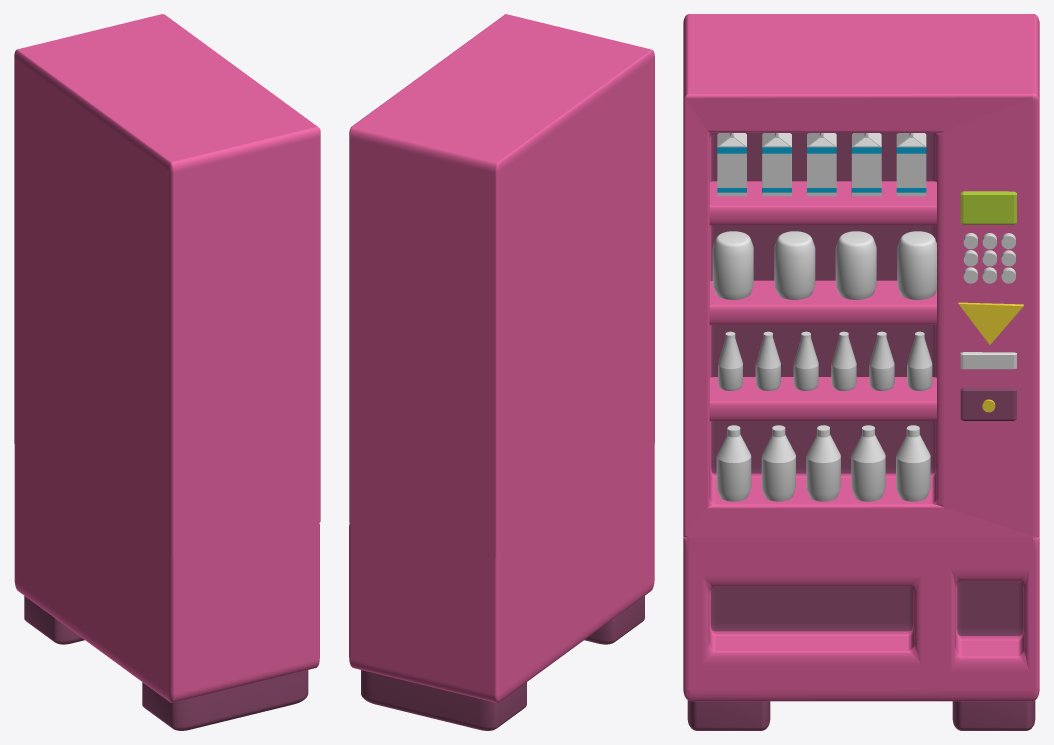
Rendered from fending_machine_compresed2.glb.
The picture shows the model from 3 angles, left to right: view 1: azimuth 30°, elevation 25°; view 2: azimuth 150°, elevation 25°; view 3: azimuth 270°, elevation 25°; orthographic projection. The views are drawn at different scales.
Parts seen in each view (by area): view 1: Cube, Cube.003, Cube.004; view 2: Cube, Cube.003, Cube.004; view 3: Cube, Cube.003, Cylinder.004, Cylinder.002, Cube.005, Cylinder.003, Cube.004, Cube.001, Cylinder, Cube.002, Circle, Cube.006.
Part boxes in pixels (box(x1,y1,x2,y2)): Cube: box(14, 14, 320, 558); Cube.003: box(14, 444, 319, 702); Cube.004: box(24, 596, 308, 730); Cube: box(349, 14, 654, 558); Cube.003: box(349, 444, 654, 702); Cube.004: box(361, 596, 644, 730); Cube: box(683, 14, 1039, 537); Cube.003: box(683, 536, 1039, 701); Cylinder.004: box(716, 425, 930, 501); Cylinder.002: box(712, 231, 936, 299); Cube.005: box(717, 133, 926, 196); Cylinder.003: box(718, 331, 932, 390); Cube.004: box(687, 700, 1035, 730); Cube.001: box(960, 191, 1016, 224); Cylinder: box(963, 233, 1015, 283); Cube.002: box(960, 387, 1016, 420); Circle: box(958, 302, 1023, 344); Cube.006: box(960, 352, 1016, 369).
Size of what is drawn, in the model's own units: 1.8 by 6.38 by 3.19.
